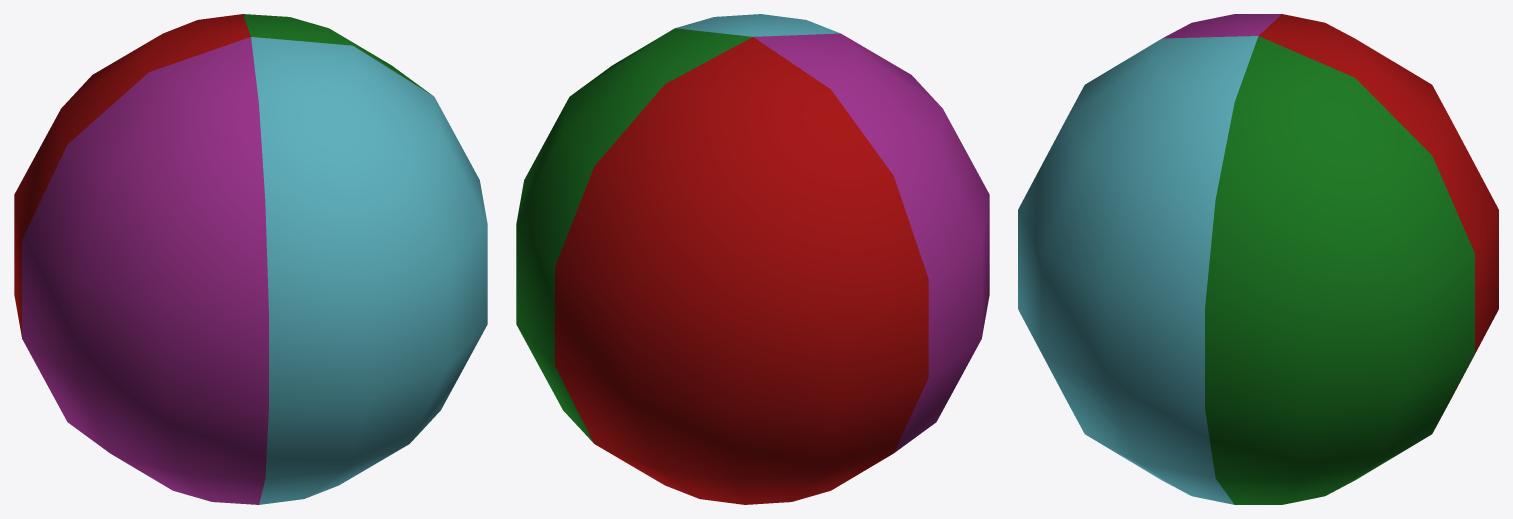
The model's file is Bal.FBX.
The picture shows the model from 3 angles, left to right: view 1: azimuth 30°, elevation 25°; view 2: azimuth 150°, elevation 25°; view 3: azimuth 270°, elevation 25°; orthographic projection.
Visible parts, largest first — view 1: Sphere001; view 2: Sphere001; view 3: Sphere001.
Boxes of the visible parts, x1,y1,x2,y2 form: Sphere001: [14, 14, 487, 504]; Sphere001: [516, 14, 989, 504]; Sphere001: [1018, 14, 1498, 504].
Size of the model in its own units: 13.67 by 14.38 by 14.02.
